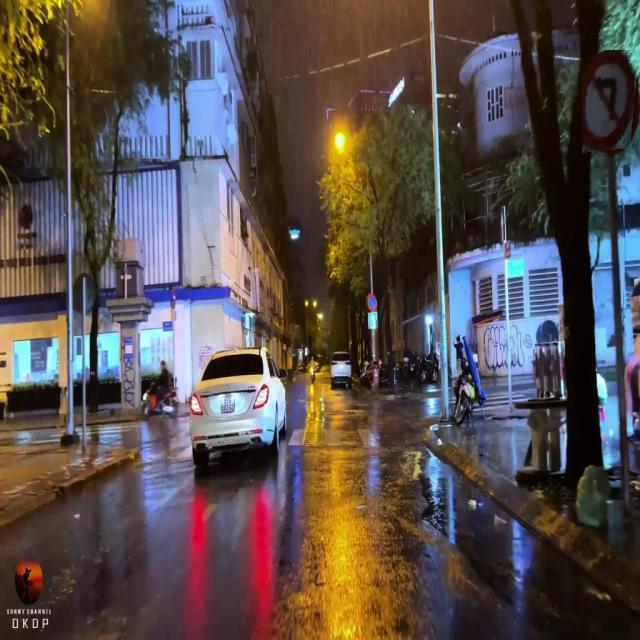123a-cam-re-trai: (574, 50, 638, 148)
407a-duong-mot-chieu: (368, 312, 377, 330)
